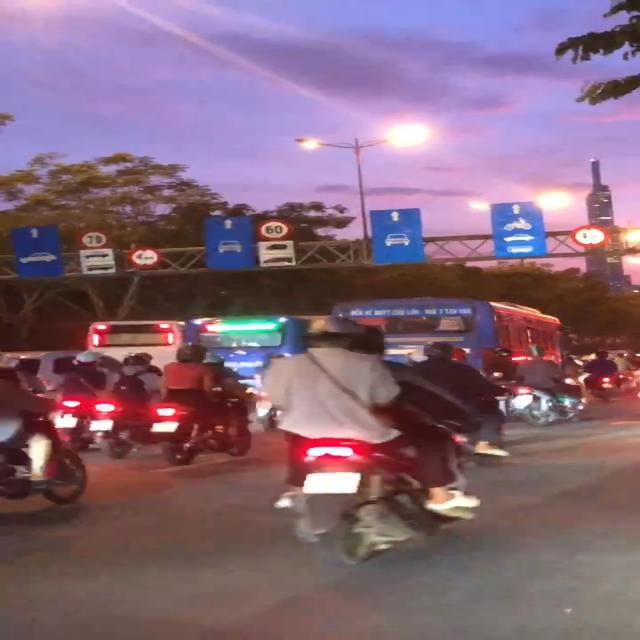Bien bao han che chieu cao: (126, 246, 163, 268)
Bien bao toc do toi da cho phep: (256, 219, 294, 244), (76, 228, 113, 250)
